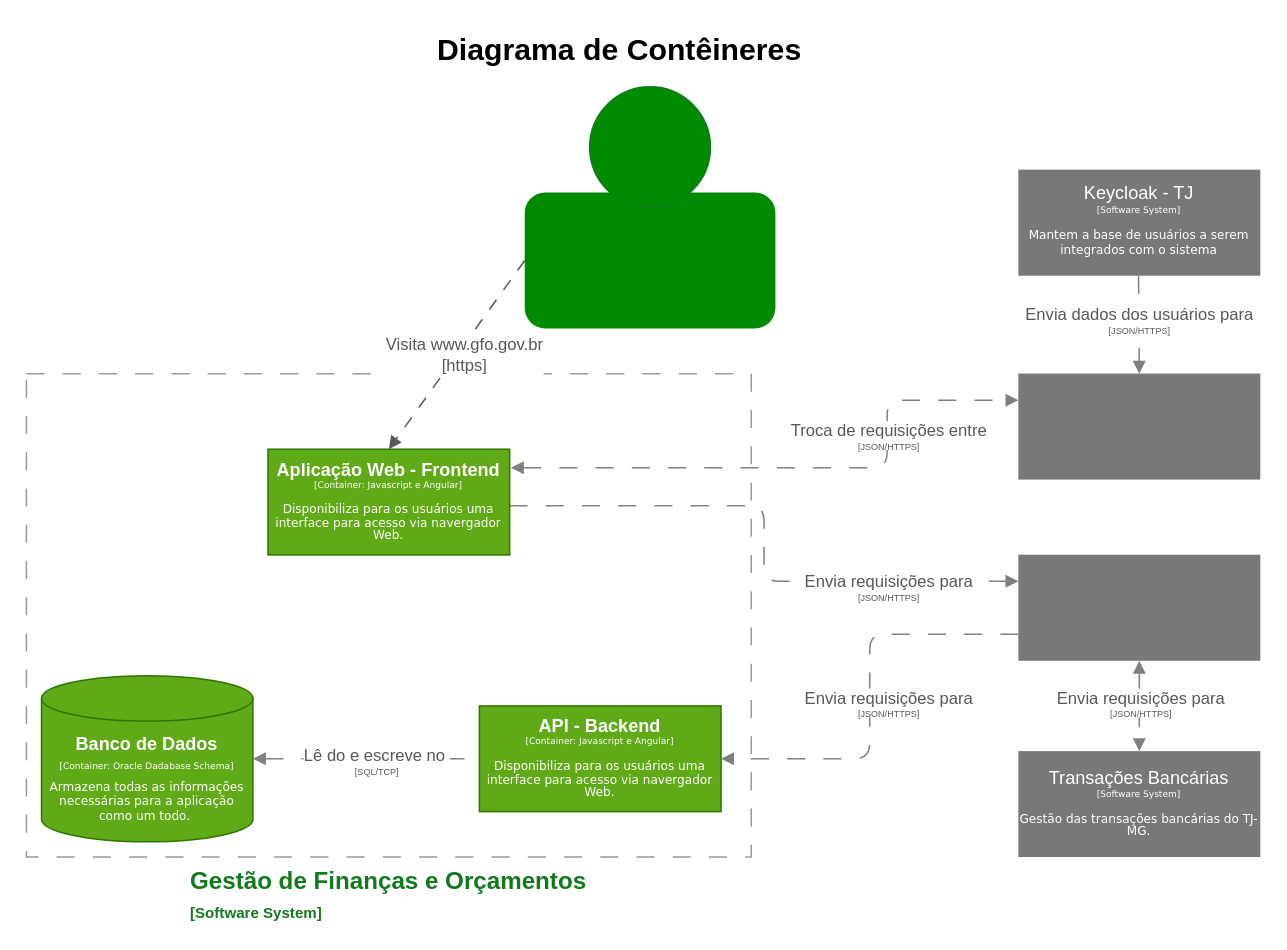
The diagram is 1287 pixels wide and 950 high, and some of its shapes have lost their labels. The box of each missing label's shape, as (x1, y1, x2, y2) in pixels:
MG- API [Software System] Faz toda a gestão de acesso à API.: (1018, 554, 1259, 660)
SSC [Software System] Faz a gestão de acesso de usuários à aplicação Web.: (1018, 373, 1259, 479)
Usuário da Aplicação [Person] Um usuário com acesso configurado no SSC: (524, 192, 775, 328)
